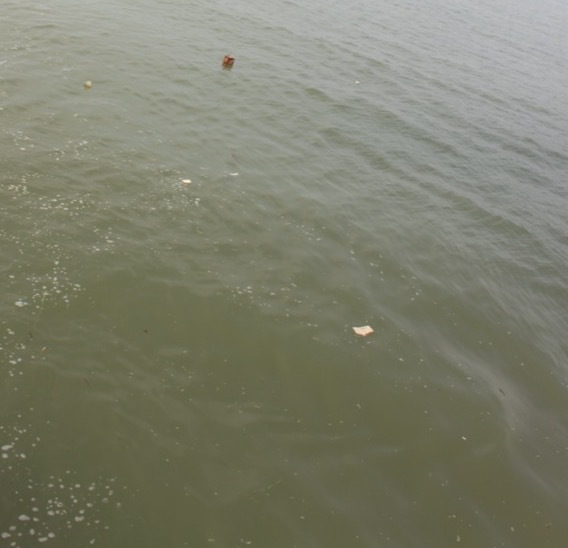plastic: (343, 314, 378, 344), (214, 43, 243, 78), (78, 75, 98, 95), (177, 172, 195, 191), (350, 75, 367, 90)
